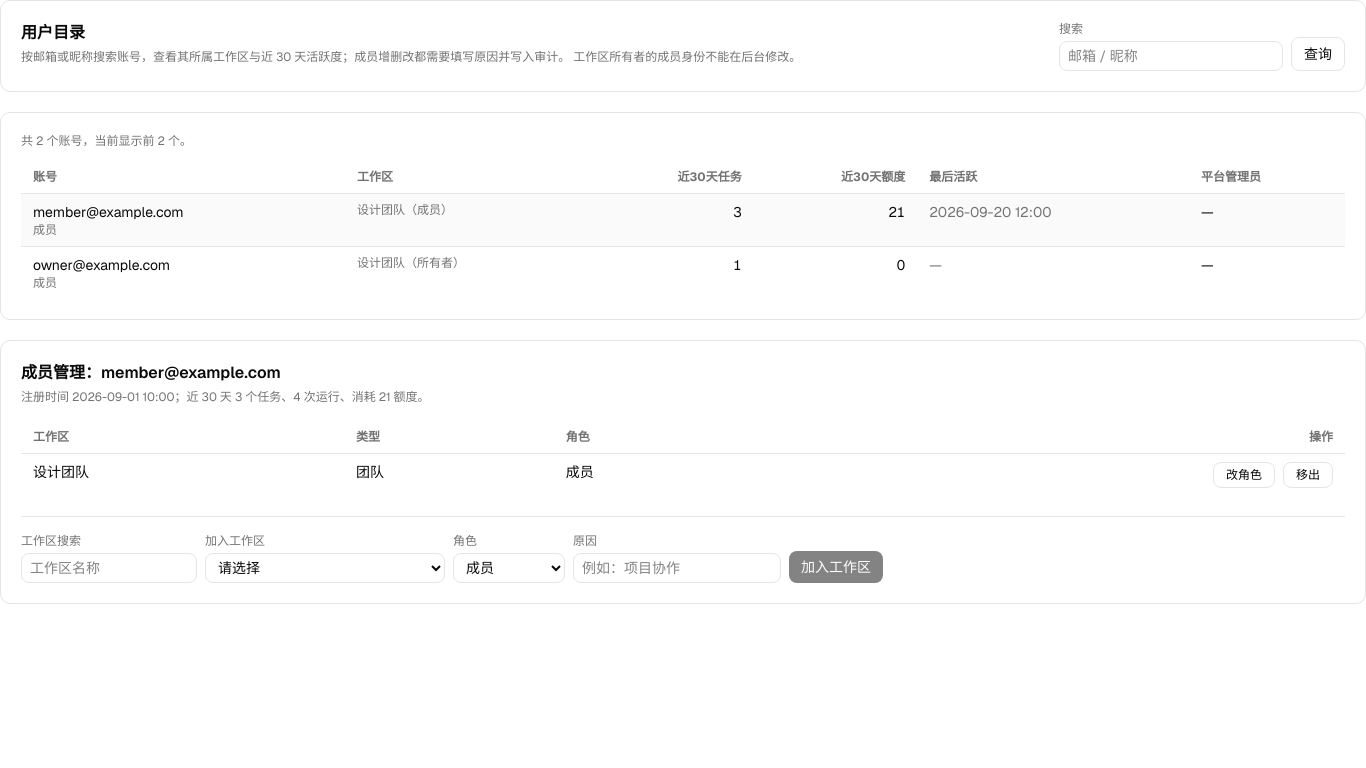
Test: admin users section › surfaces a membership refusal instead of pretending it worked
The width and height of the screenshot is (1366, 768).
Select "另一个工作区（1 人）" in the dropdown named "选择工作区" at coordinates (325, 568), box [205, 553, 445, 583]
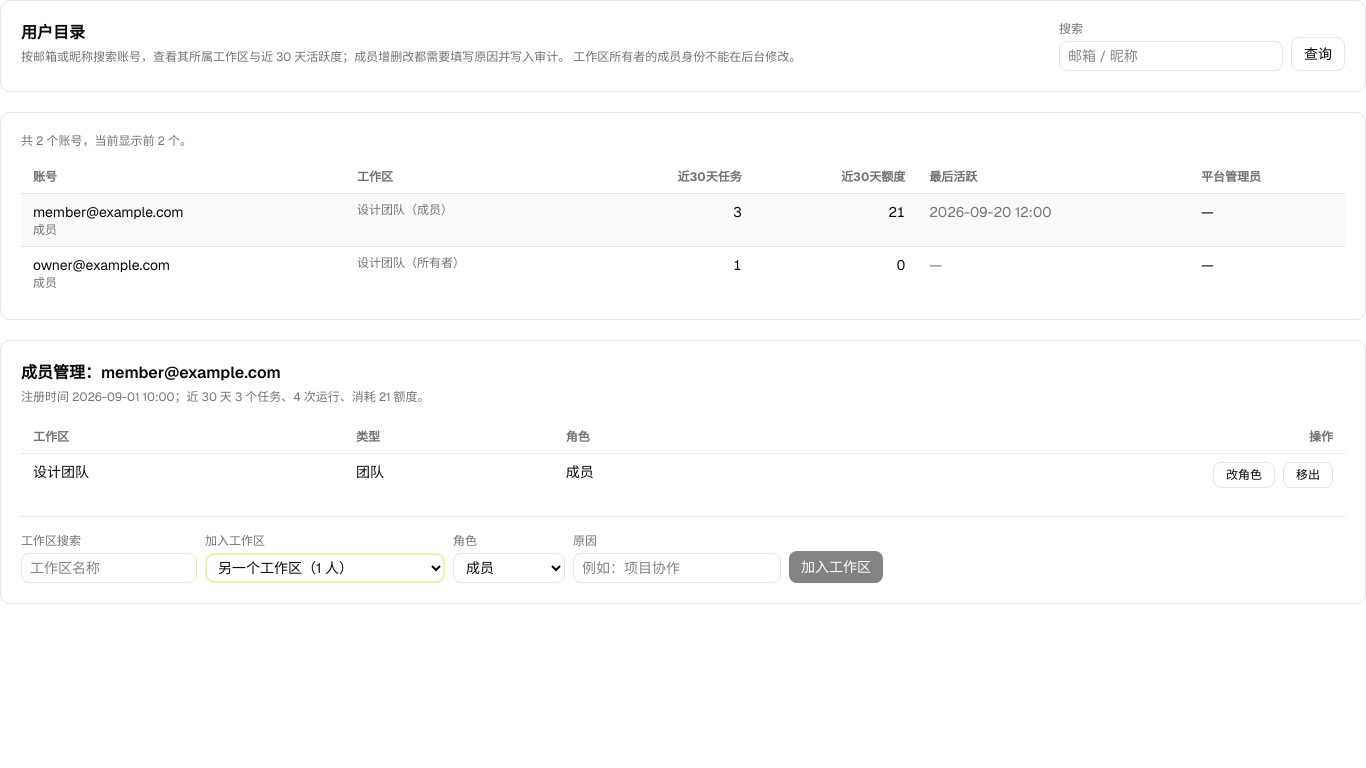
Type "重复加入" into the field named "加入工作区原因" at coordinates (677, 568), box [573, 553, 781, 583]
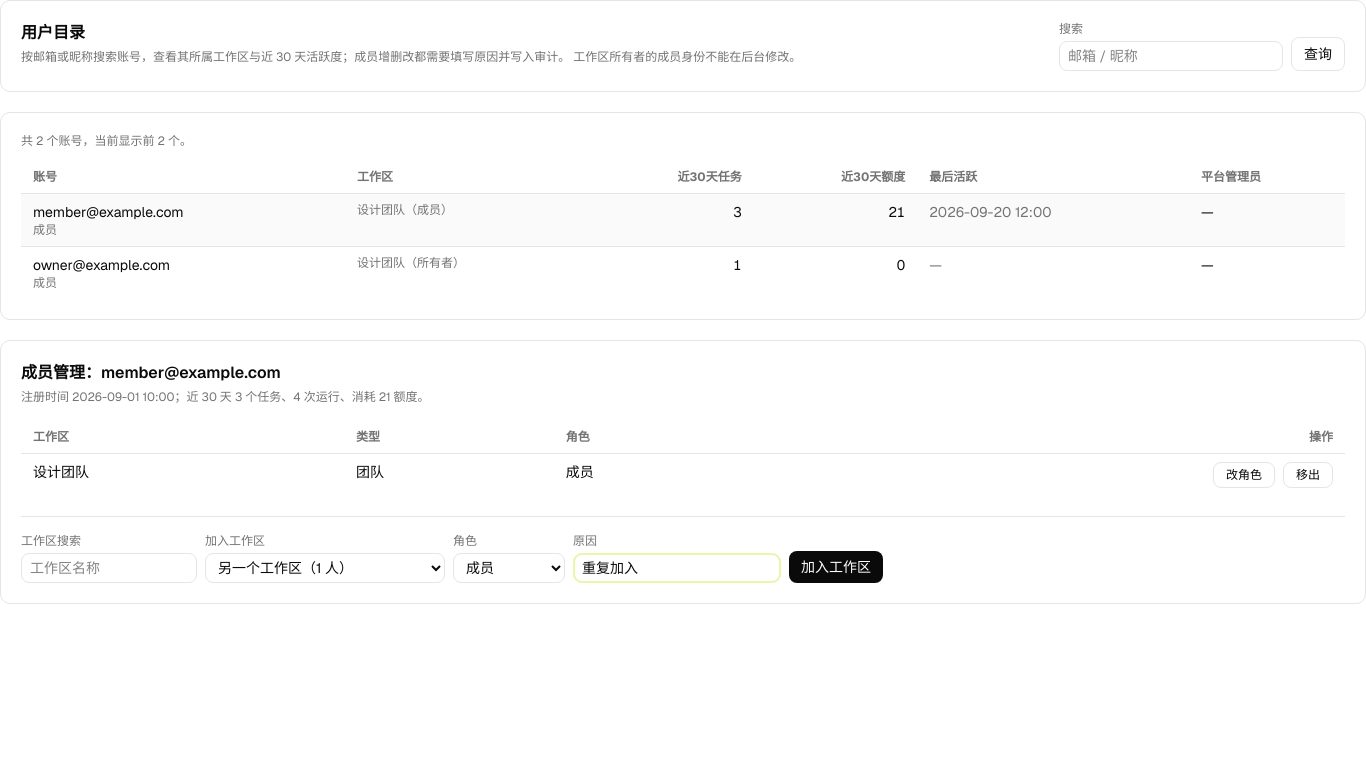
Click the button "加入工作区" at coordinates (836, 567), box [789, 551, 883, 583]
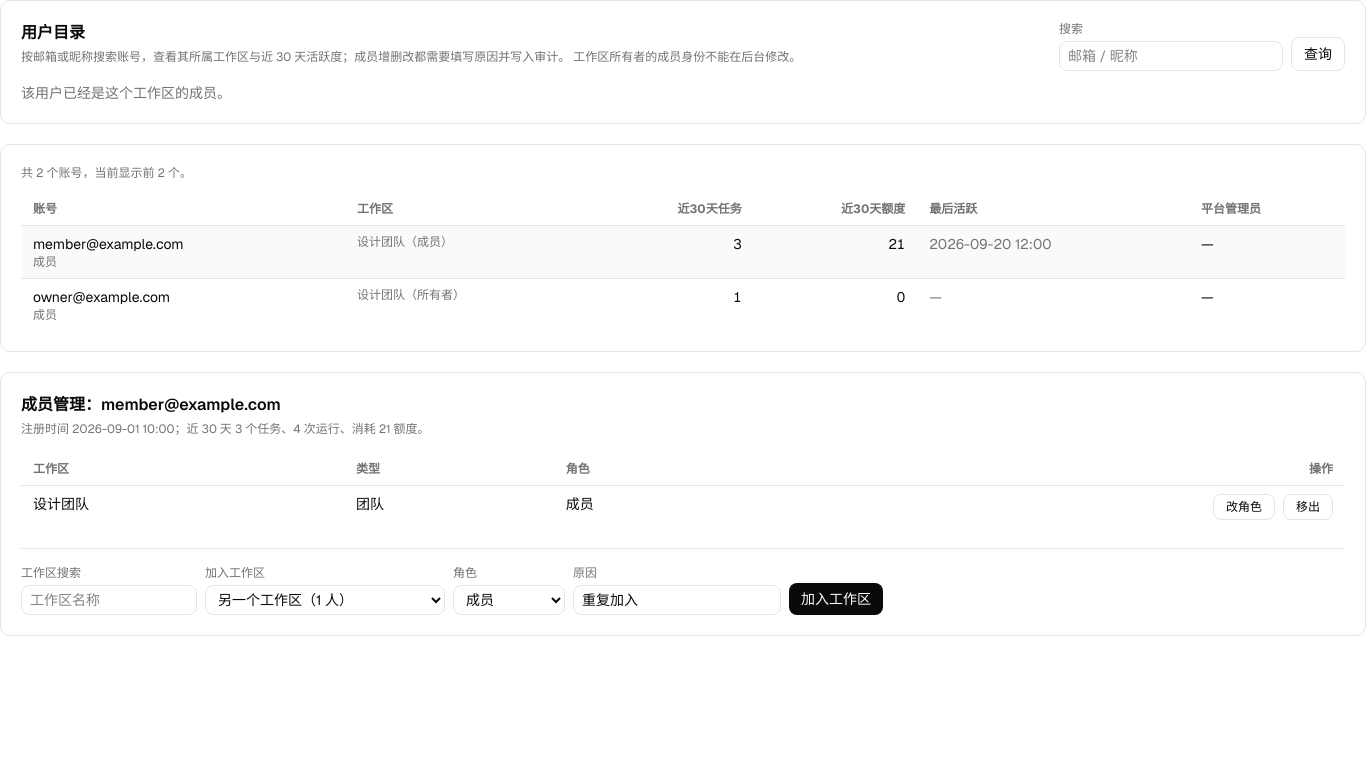
Result: the text with test id "admin-users-feedback" reads "该用户已经是这个工作区的成员。" at [21, 84, 231, 102]
